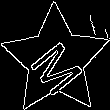M_NE: (23, 27, 88, 94)
